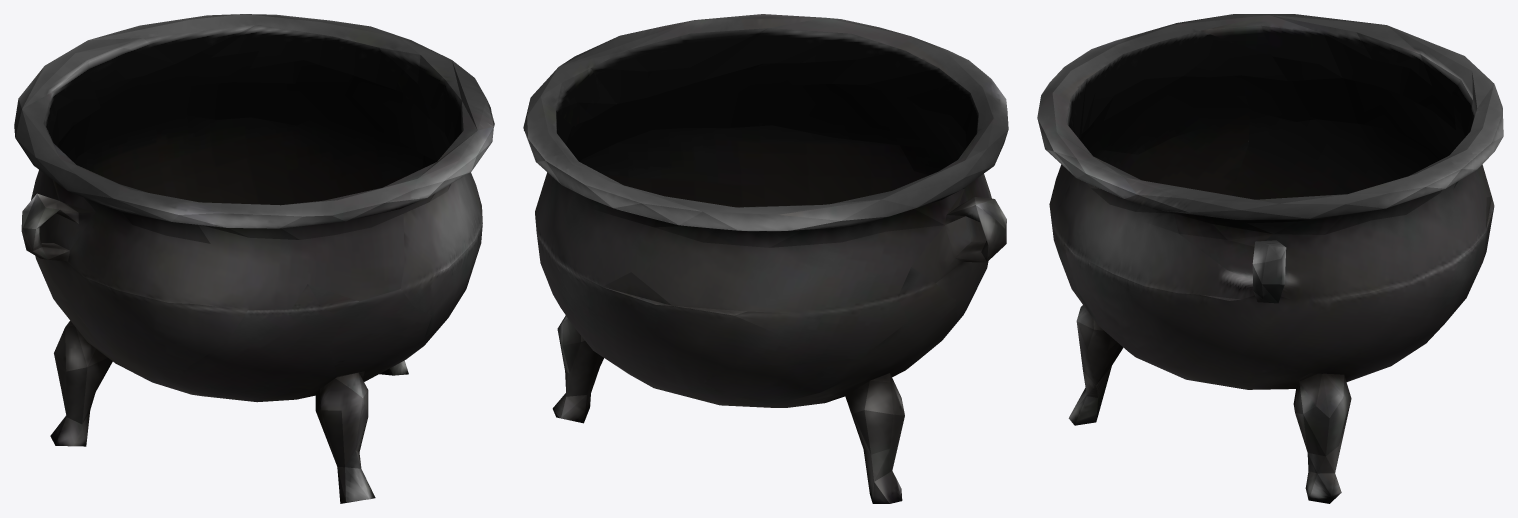
The model's file is cauldron.glb.
The picture shows the model from 3 angles, left to right: view 1: azimuth 30°, elevation 25°; view 2: azimuth 150°, elevation 25°; view 3: azimuth 270°, elevation 25°; orthographic projection. The views are drawn at different scales.
Visible parts, largest first — view 1: model; view 2: model; view 3: model.
Part boxes in pixels (x1,y1,x2,y2): model: (14, 14, 494, 503); model: (523, 14, 1008, 503); model: (1037, 14, 1503, 503).
Size of the model in its own units: 1.9 by 1.25 by 1.69.
Materials: 1 (1 with a texture image).
